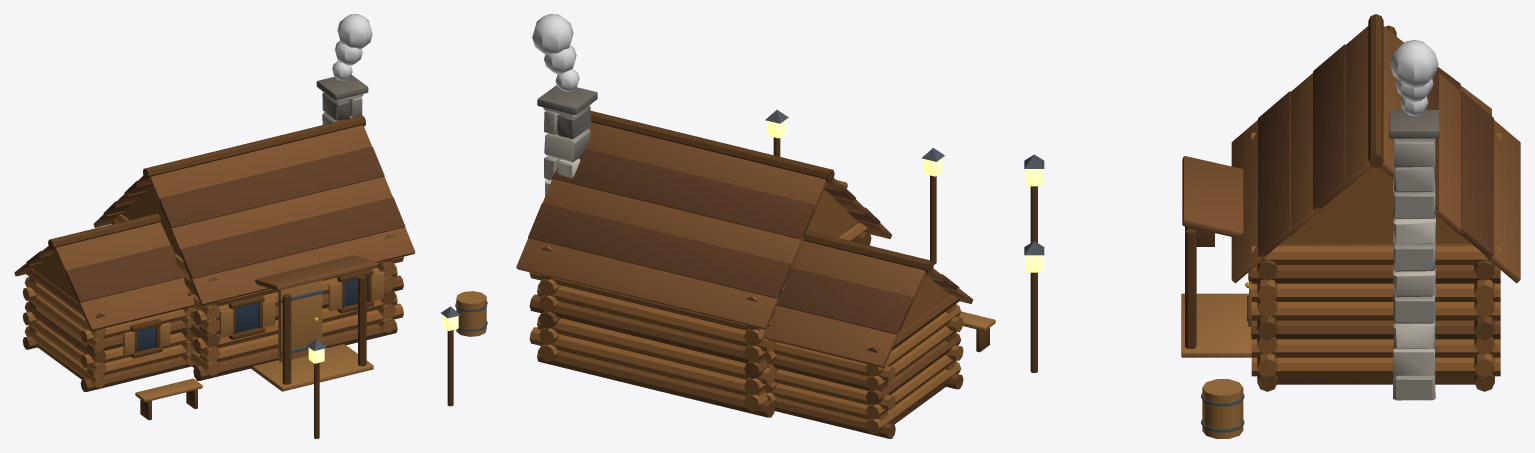
The model's file is budynek_glowny_poz05.glb.
The picture shows the model from 3 angles, left to right: view 1: azimuth 30°, elevation 25°; view 2: azimuth 150°, elevation 25°; view 3: azimuth 270°, elevation 25°; orthographic projection. The views are drawn at different scales.
Visible parts, largest first — view 1: budynek_glowny_poz05; view 2: budynek_glowny_poz05; view 3: budynek_glowny_poz05.
Boxes of the visible parts, x1,y1,x2,y2 form: budynek_glowny_poz05: (14,14,487,438); budynek_glowny_poz05: (516,14,995,438); budynek_glowny_poz05: (1024,14,1520,438).
Bounding box in the file's own units: 8.87 × 6.23 × 7.77.
